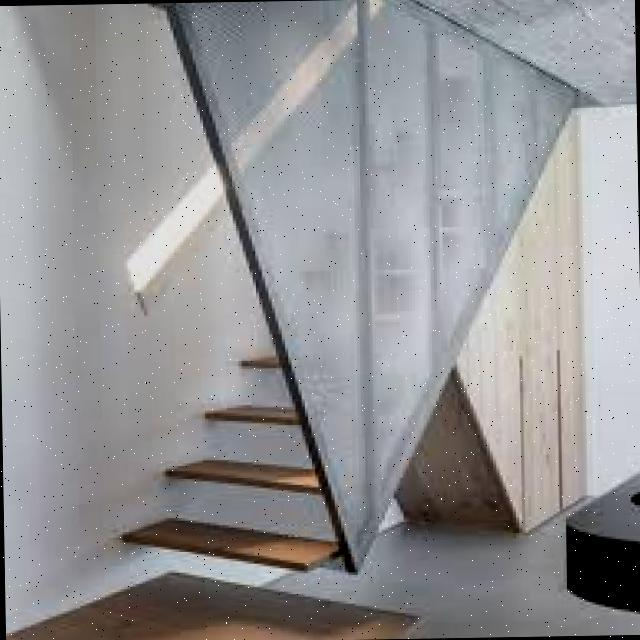stairs: (113, 351, 354, 576)
